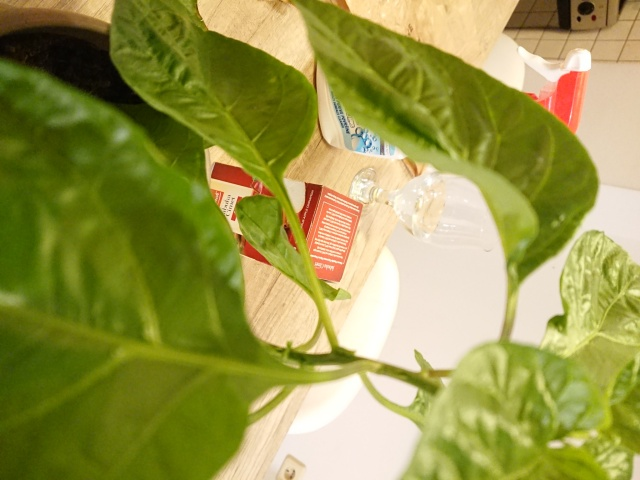Franck Apple Cinnamon Tea 60g: (192, 159, 367, 285)
